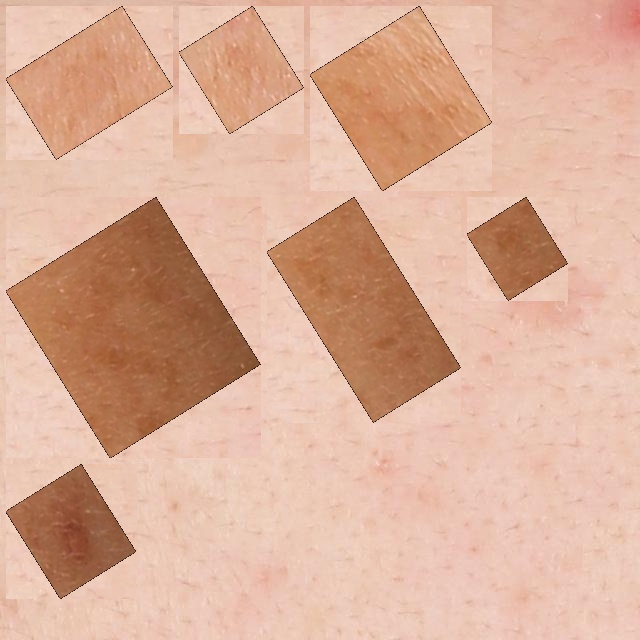melasma: (17, 208, 249, 447), (278, 208, 450, 411), (321, 17, 481, 180), (17, 17, 162, 148), (17, 475, 125, 587), (190, 17, 293, 122), (478, 208, 557, 289)
